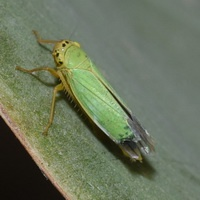insect: (16, 30, 154, 161)
